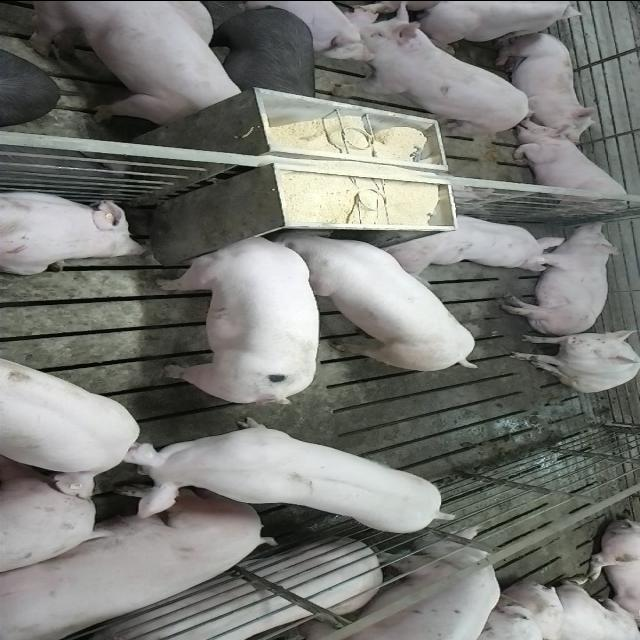Feeding: (277, 229, 480, 377), (156, 224, 322, 398)
Lateral_lying: (0, 476, 272, 637), (498, 220, 626, 336)
Sitting: (504, 125, 636, 214), (506, 329, 638, 391)
Standing: (107, 418, 452, 536), (13, 1, 246, 126), (316, 4, 542, 132), (290, 532, 506, 640), (0, 358, 141, 501), (204, 4, 318, 103), (408, 0, 593, 45)
Sternal_lying: (0, 187, 149, 274), (488, 29, 600, 138), (383, 210, 569, 274)
